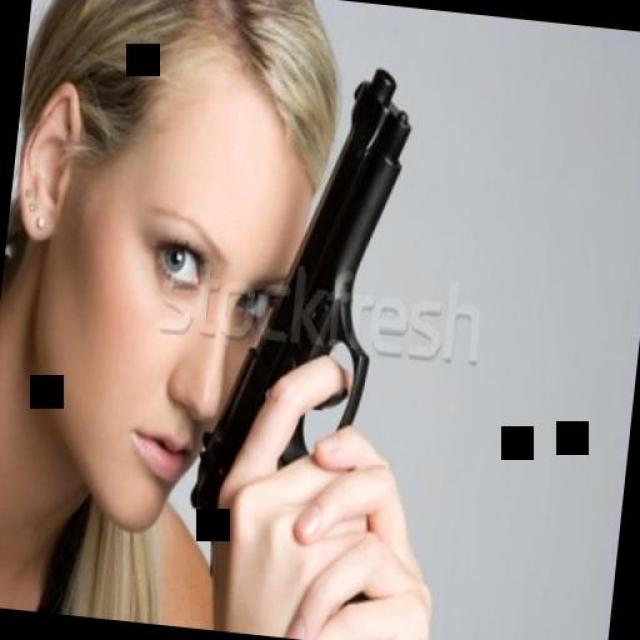gun: (171, 28, 424, 560)
